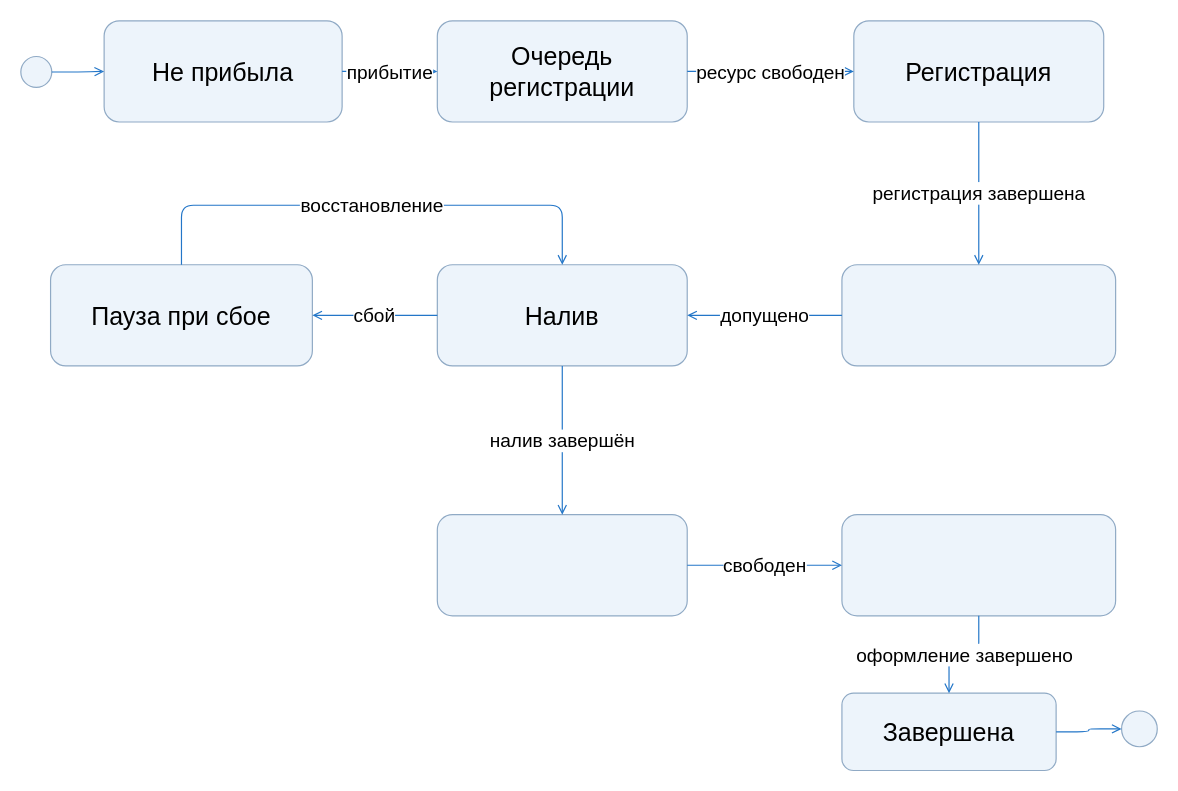
This 1178x791 diagram has some shape labels left out. Here are the shapes that lost their labels. From the top down, the centre of each, then its label:
At [978,315]: "Ожидание продукта или поста".
At [561,564]: "Очередь оформления".
At [978,564]: "Контроль и оформление".
